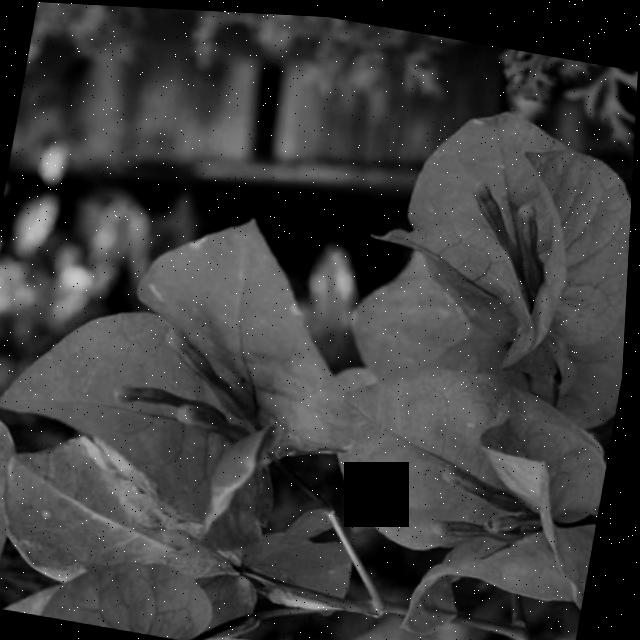bougainvillea: (0, 133, 392, 556), (311, 65, 638, 470), (0, 356, 414, 640), (299, 341, 624, 640)
